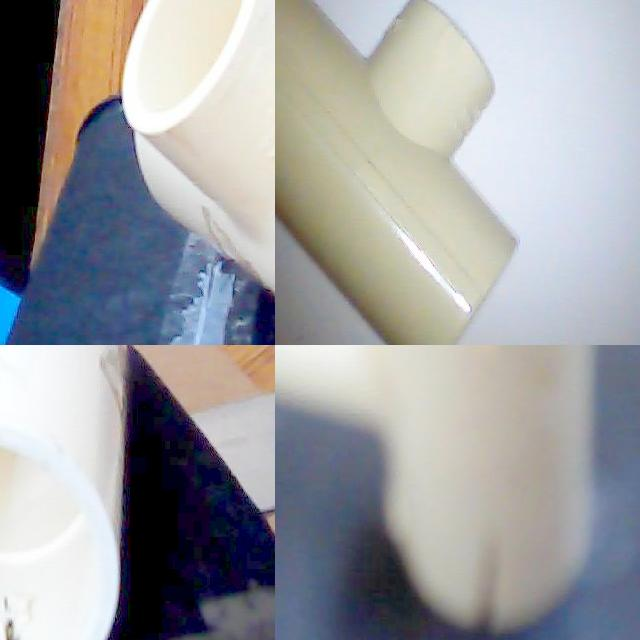Defective: (0, 357, 105, 528), (200, 196, 275, 306), (464, 512, 523, 640), (0, 596, 35, 640)
T Joint: (275, 345, 596, 631), (275, 0, 519, 345)
